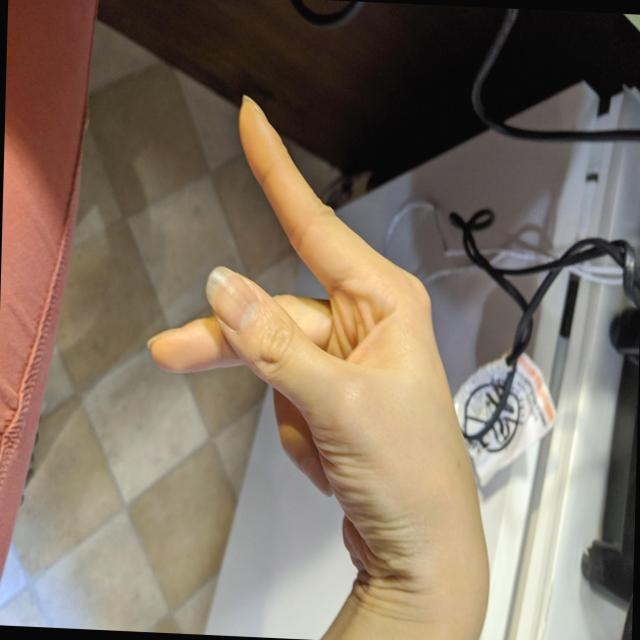P: (134, 85, 502, 579)
